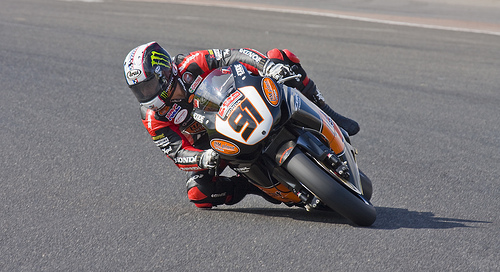helmet: (117, 44, 177, 107)
